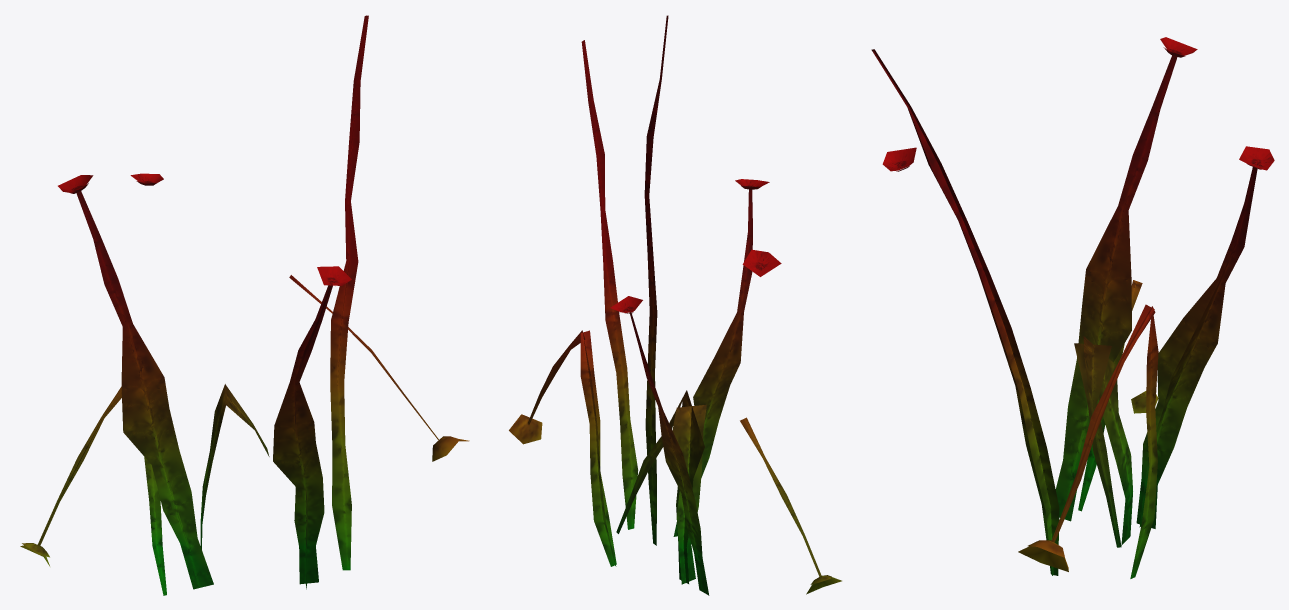
The model's file is White Everlasting_LOD1_Var9_ucvobbbia.glb.
The picture shows the model from 3 angles, left to right: view 1: azimuth 30°, elevation 25°; view 2: azimuth 150°, elevation 25°; view 3: azimuth 270°, elevation 25°; orthographic projection. The views are drawn at different scales.
Parts seen in each view (by area): view 1: _e75a_Var9_LOD1; view 2: _e75a_Var9_LOD1; view 3: _e75a_Var9_LOD1.
Part boxes in pixels (x1,y1,x2,y2): _e75a_Var9_LOD1: (20, 15, 469, 595); _e75a_Var9_LOD1: (509, 15, 841, 595); _e75a_Var9_LOD1: (871, 37, 1274, 578).
Size of the model in its own units: 0.3536 by 0.45 by 0.2724.
1 material, 1 textured.
